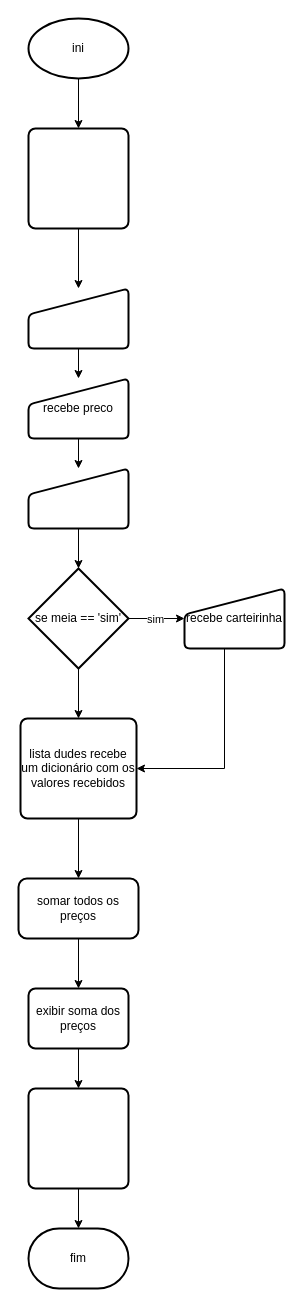
This 302x1306 diagram has some shape labels left out. Each missing label, with the centre of its shape:
declara lista dudes nome,preco, meia, carteirinha: point 78,178
para cada elemento em dudes, exibir mensagem com nome e tipo de ingresso: point 78,1138
recebe meia: point 78,498
recebe nome: point 78,318
